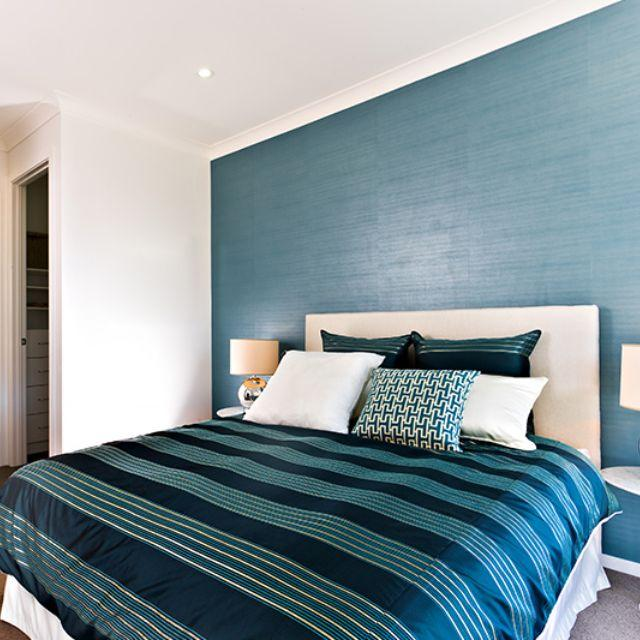bed: (9, 455, 634, 640)
door: (0, 158, 51, 464)
lamp: (227, 338, 279, 414)
pillow: (253, 346, 374, 439), (348, 370, 481, 446), (455, 374, 550, 450)
